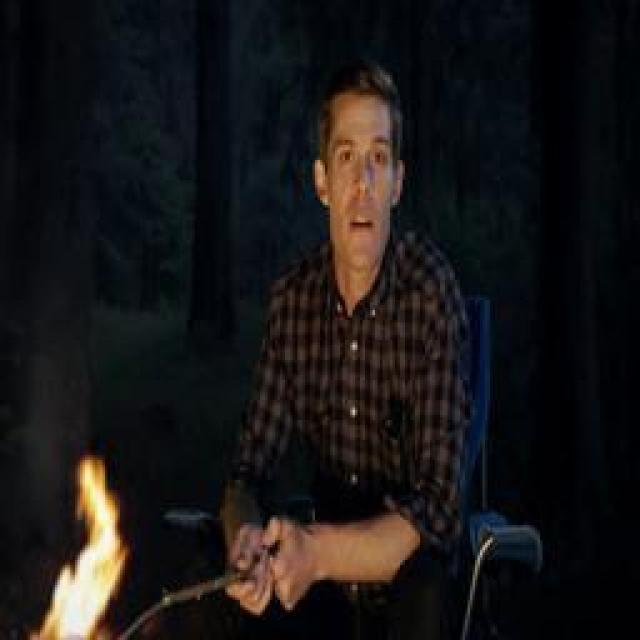Fire: (28, 462, 128, 640)
